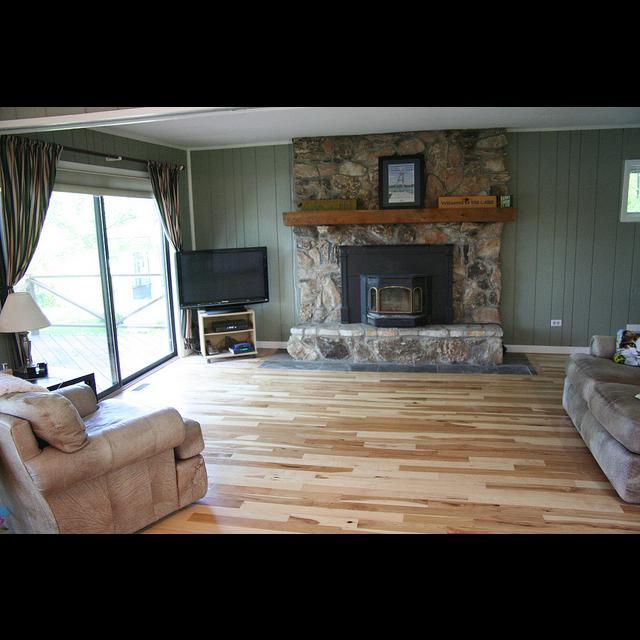Flat-Panel-TV: (174, 246, 270, 308)
